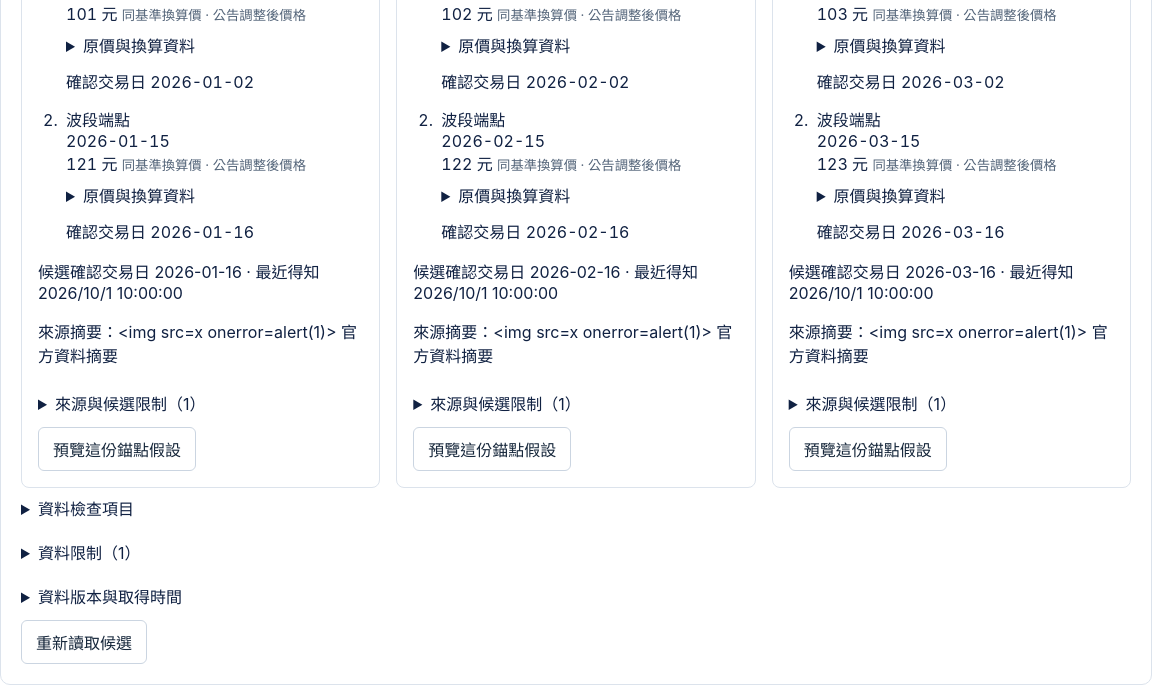
Scenario: AutomaticWaveCandidates › rejects stale preview and draft responses without offering a stale draft
The image size is (1152, 700).
(page scrolled)
Click the button "預覽這份錨點假設" below "121 元".
click(117, 449)  # box [38, 427, 196, 471]
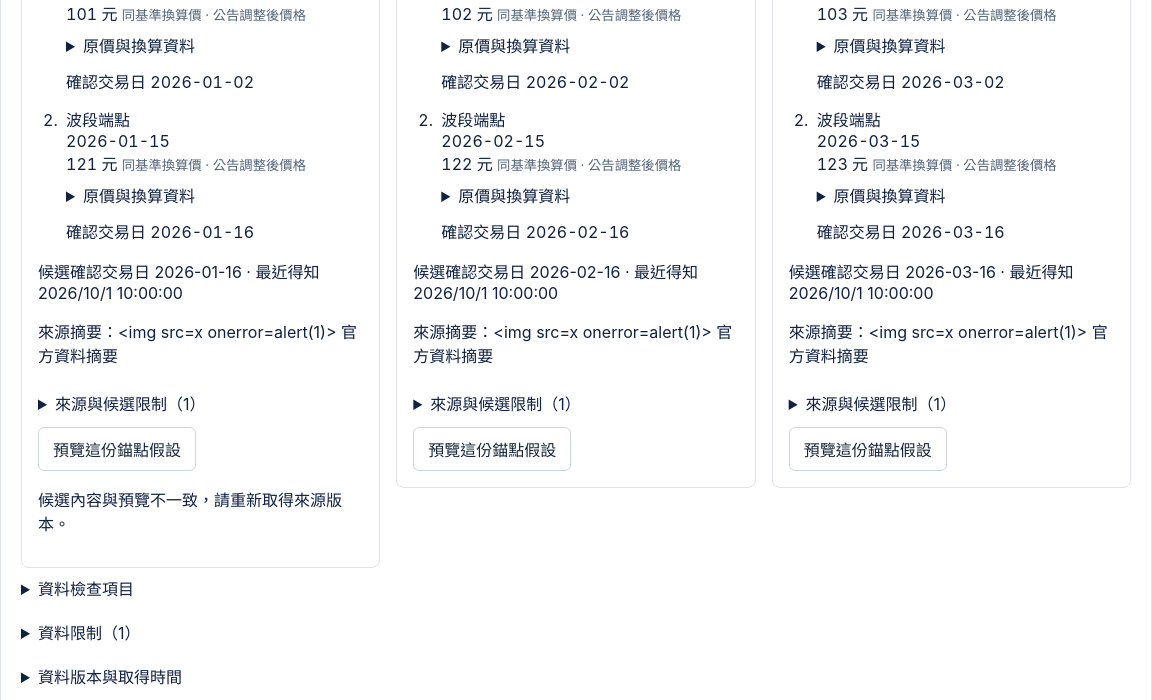
Expected: the text "候選內容與預覽不一致，請重新取得來源版本。" is shown, [38, 487, 363, 535]
